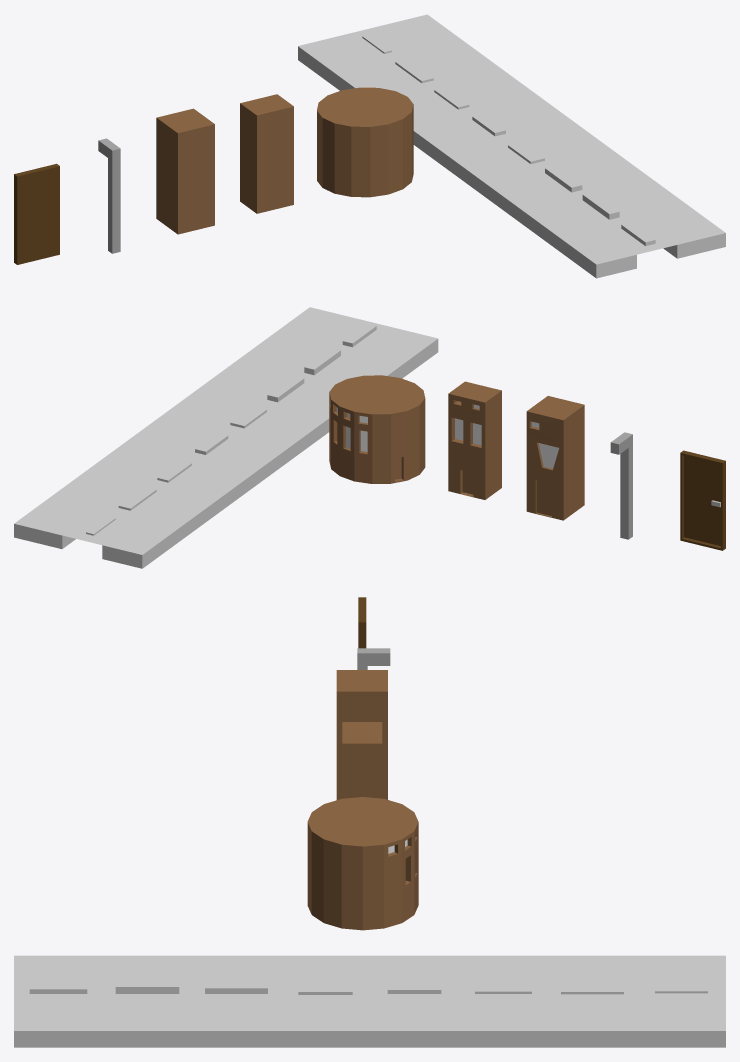
The model's file is City.fbx.
The picture shows the model from 3 angles, top to bottom: view 1: azimuth 30°, elevation 25°; view 2: azimuth 150°, elevation 25°; view 3: azimuth 270°, elevation 25°; orthographic projection. The views are drawn at different scales.
Visible parts, largest first — view 1: Plane, Cylinder, Cube, Cube.002, Cube.009, Cube.001; view 2: Plane, Cylinder, Cube, Cube.002, Cube.009, Cube.001; view 3: Plane, Cylinder, Cube, Cube.002.
Part boxes in pixels (<box>): Plane: <box>298,14,725,278</box>; Cylinder: <box>317,87,413,197</box>; Cube: <box>156,108,214,234</box>; Cube.002: <box>240,94,293,213</box>; Cube.009: <box>14,163,59,264</box>; Cube.001: <box>98,138,120,253</box>; Plane: <box>14,307,438,568</box>; Cylinder: <box>329,375,425,483</box>; Cube: <box>526,396,584,520</box>; Cube.002: <box>448,381,501,499</box>; Cube.009: <box>680,450,725,550</box>; Cube.001: <box>610,432,632,539</box>; Plane: <box>14,955,725,1047</box>; Cylinder: <box>307,797,418,930</box>; Cube: <box>336,670,387,799</box>; Cube.002: <box>342,722,382,798</box>.
Bounding box in the file's own units: 10201 × 1990 × 9349.
